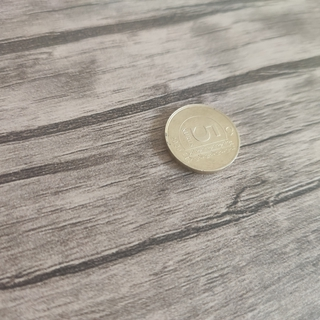5KURUS: (163, 101, 241, 175)
